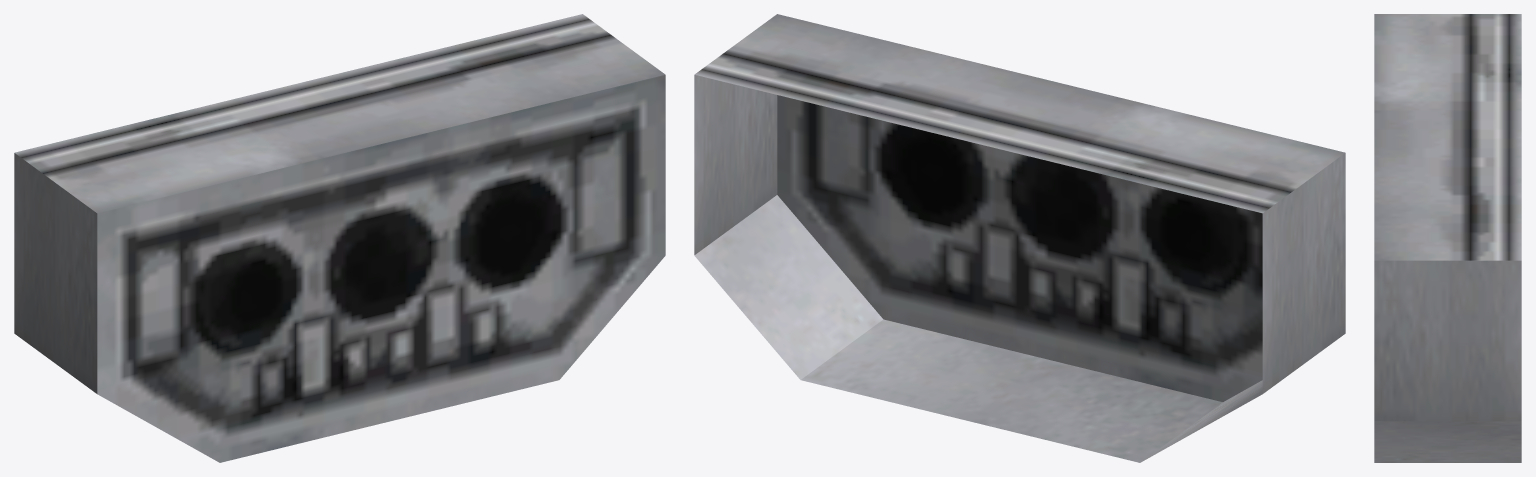
File: cable_accessory_connector_medium.dae
The picture shows the model from 3 angles, left to right: view 1: azimuth 30°, elevation 25°; view 2: azimuth 150°, elevation 25°; view 3: azimuth 270°, elevation 25°; orthographic projection. The views are drawn at different scales.
Visible parts, largest first — view 1: Mesh__2_; view 2: Mesh__2_; view 3: Mesh__2_.
Part boxes in pixels (bbox=[...]): Mesh__2_: bbox=[14, 14, 665, 462]; Mesh__2_: bbox=[694, 14, 1345, 462]; Mesh__2_: bbox=[1374, 14, 1521, 462].
Bounding box in the file's own units: 0.1382 × 0.0649 × 0.0349.
